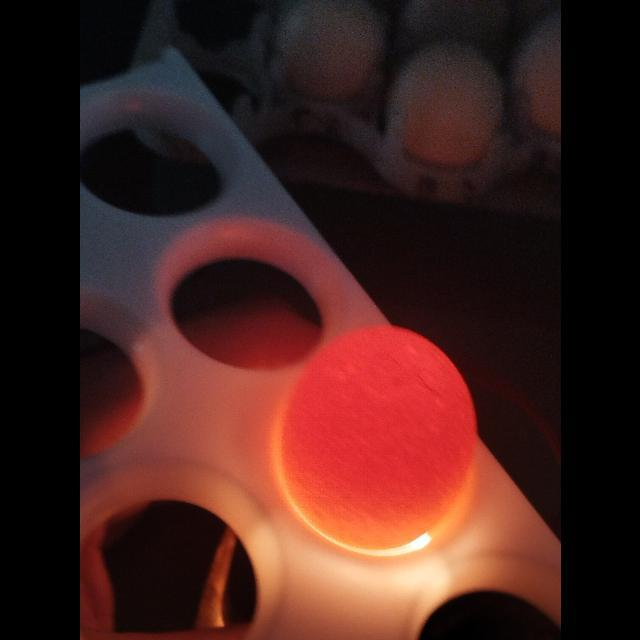Infertile: (281, 327, 477, 549)
